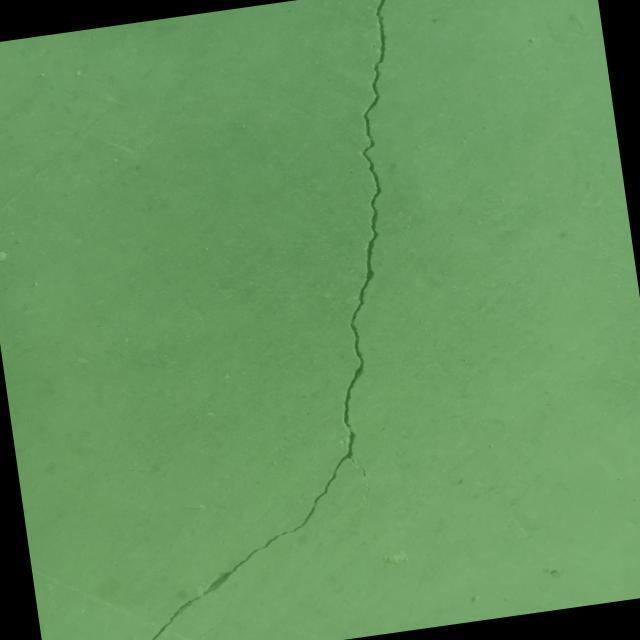crack: (37, 0, 476, 640)
